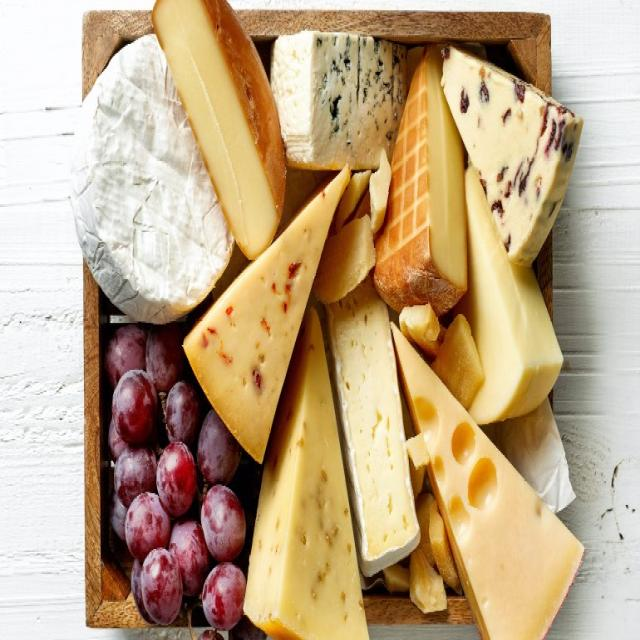Cheese: (384, 311, 583, 640), (173, 161, 360, 470), (68, 26, 235, 326), (245, 293, 373, 640), (432, 37, 591, 279), (142, 0, 284, 256), (317, 276, 428, 584), (376, 28, 471, 310), (462, 170, 558, 440), (264, 32, 425, 174), (313, 225, 376, 302), (440, 312, 479, 404), (419, 496, 457, 582), (370, 143, 396, 244), (396, 298, 440, 354), (408, 564, 452, 620), (408, 422, 430, 494)
